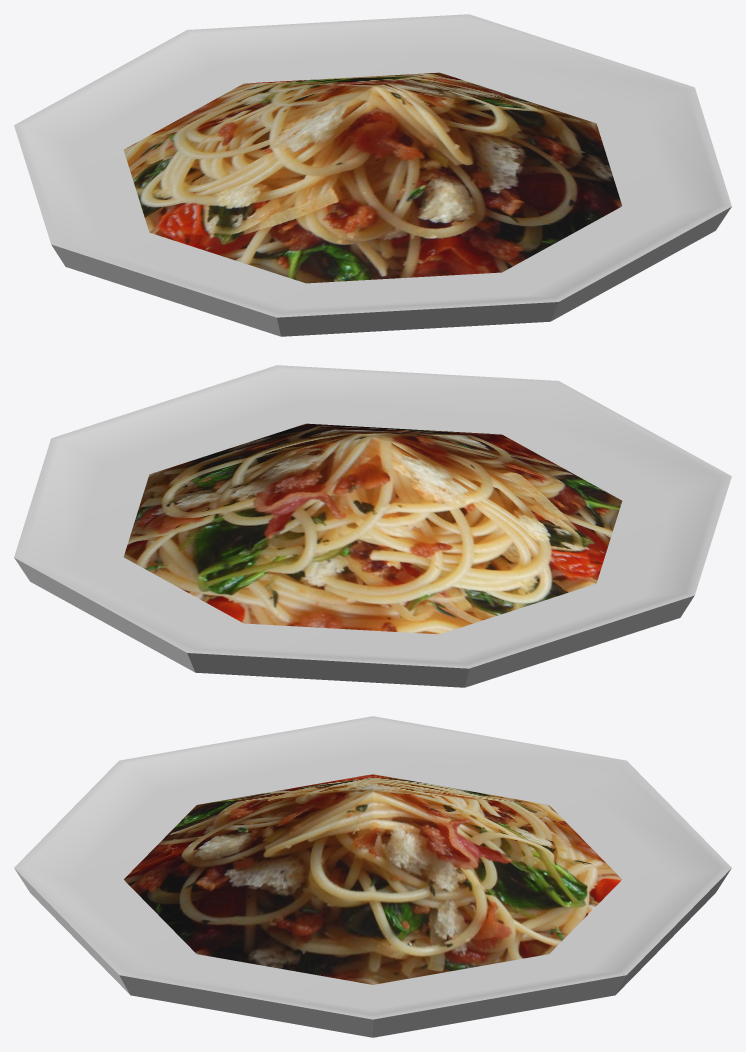
File: plate_food.fbx
3 renders of one model, top to bottom at view 1: azimuth 30°, elevation 25°; view 2: azimuth 150°, elevation 25°; view 3: azimuth 270°, elevation 25°, orthographic. The views are drawn at different scales.
Parts seen in each view (by area): view 1: plate, food; view 2: plate, food; view 3: plate, food.
Boxes of the visible parts, x1,y1,x2,y2 form: plate: (14, 14, 731, 336); food: (123, 72, 621, 283); plate: (14, 365, 731, 687); food: (124, 423, 622, 634); plate: (14, 716, 731, 1037); food: (124, 774, 621, 984).
Bounding box in the file's own units: 1.16 × 0.1815 × 1.16.
